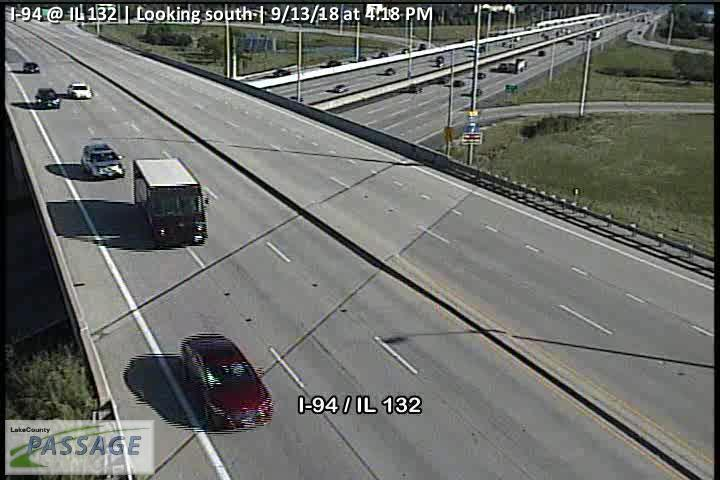Sedan: (179, 330, 272, 433), (81, 143, 123, 179), (35, 87, 59, 109), (68, 81, 92, 99), (21, 62, 38, 72), (333, 82, 346, 91), (384, 67, 394, 74)
Truck: (132, 157, 209, 247)
